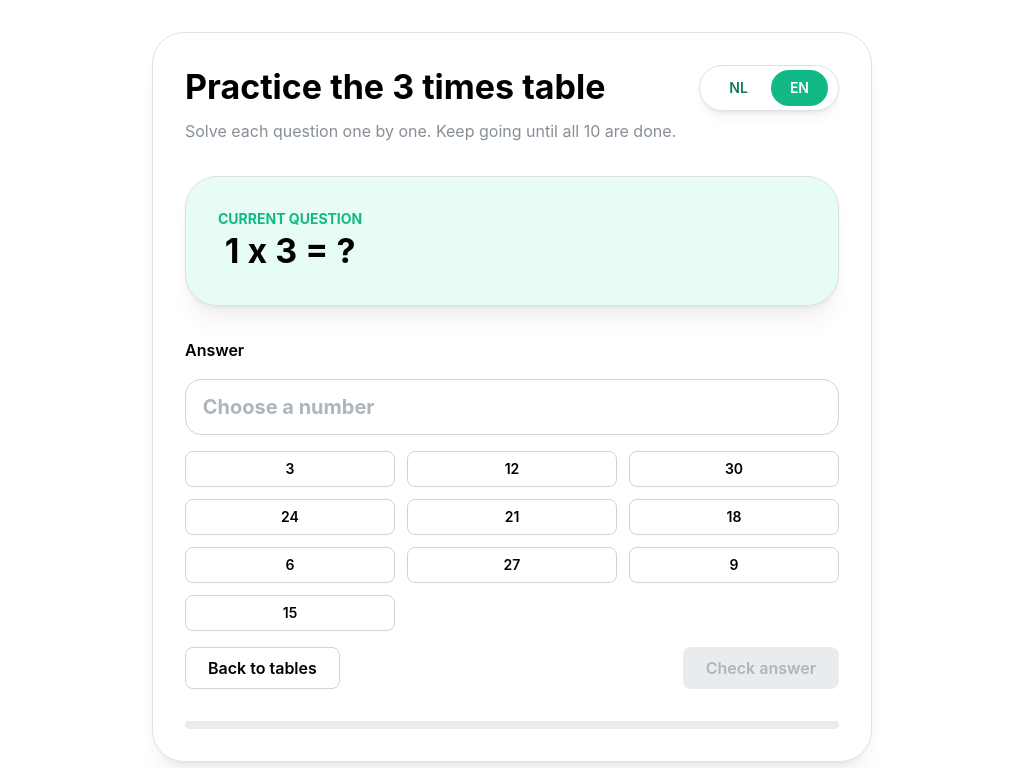
it: GIVEN I have selected the correct answer, WHEN I press Check answer, THEN Continue replaces the Check answer action
This screenshot has width=1024, height=768.
Click the button "3".
click(290, 469)  # box [185,451,395,487]
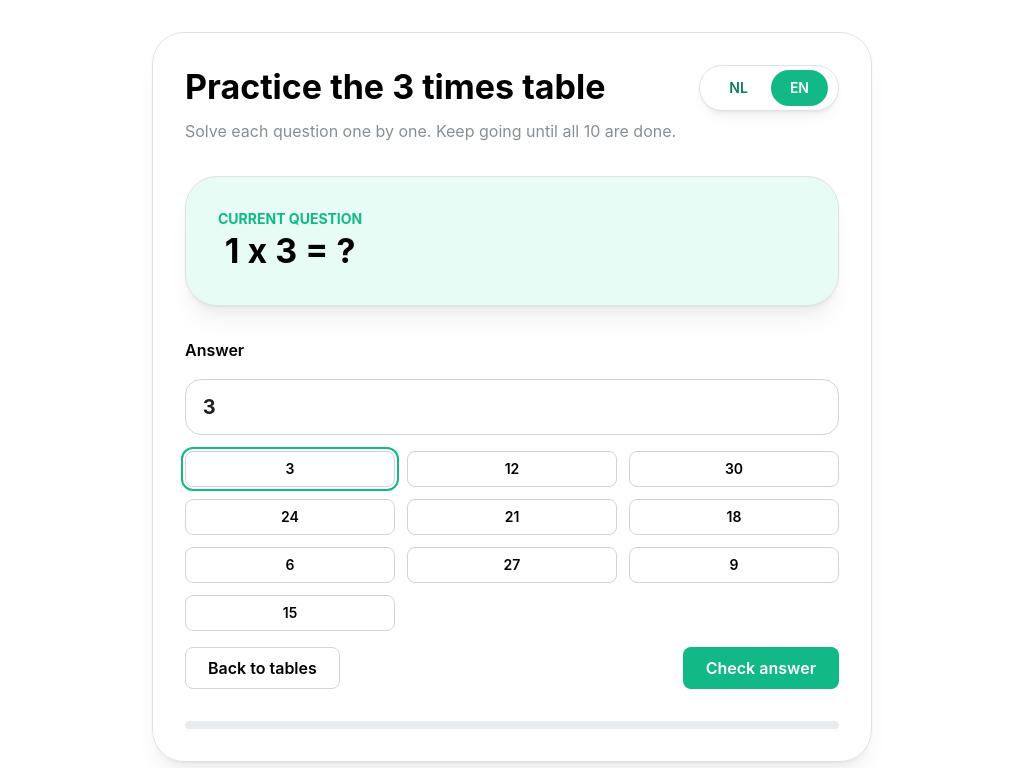
Click the button "Check answer".
click(761, 668)  # box [683,647,839,689]
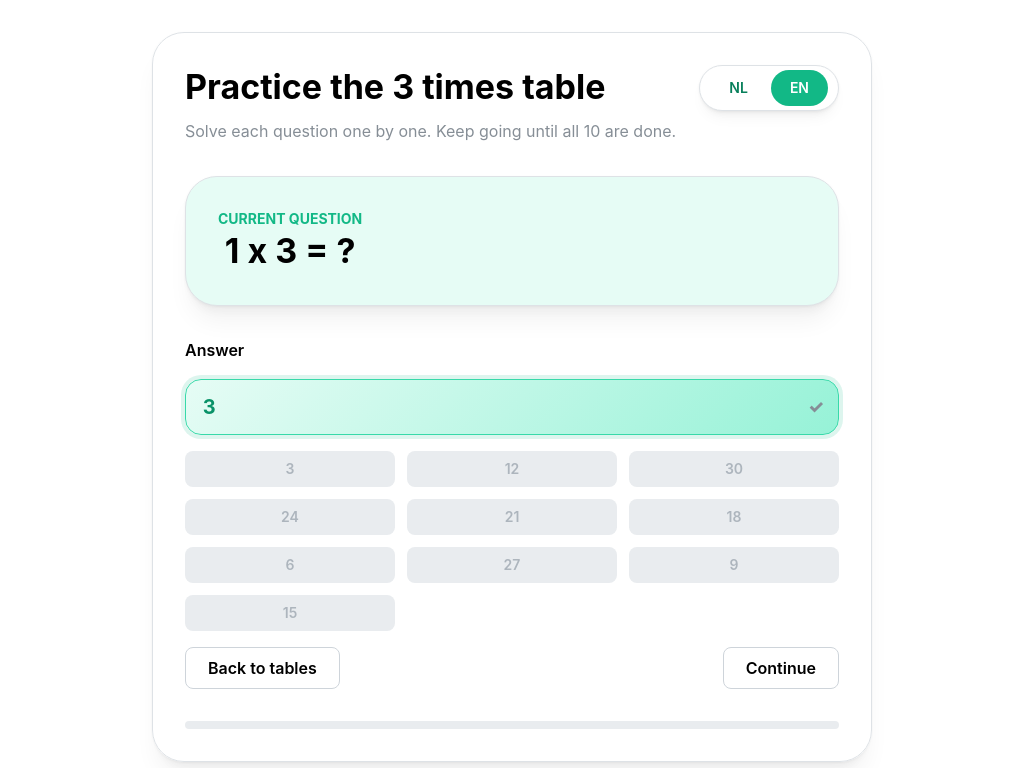
Expected: the button "Check answer" is gone
Expected: the button "Continue" is shown, [723,647,839,689]
